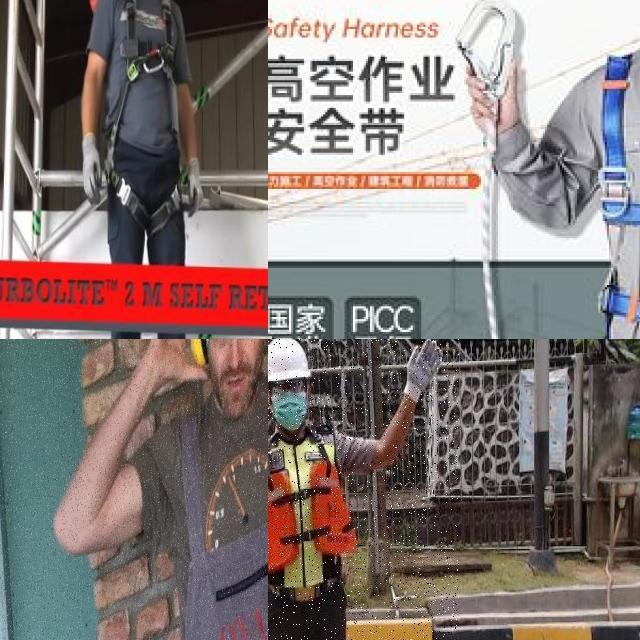Ear-protection: (184, 339, 215, 379)
Harness: (110, 0, 192, 142)
head_helmet: (268, 339, 314, 383)
person: (268, 339, 459, 640)
vest: (268, 432, 358, 588)
